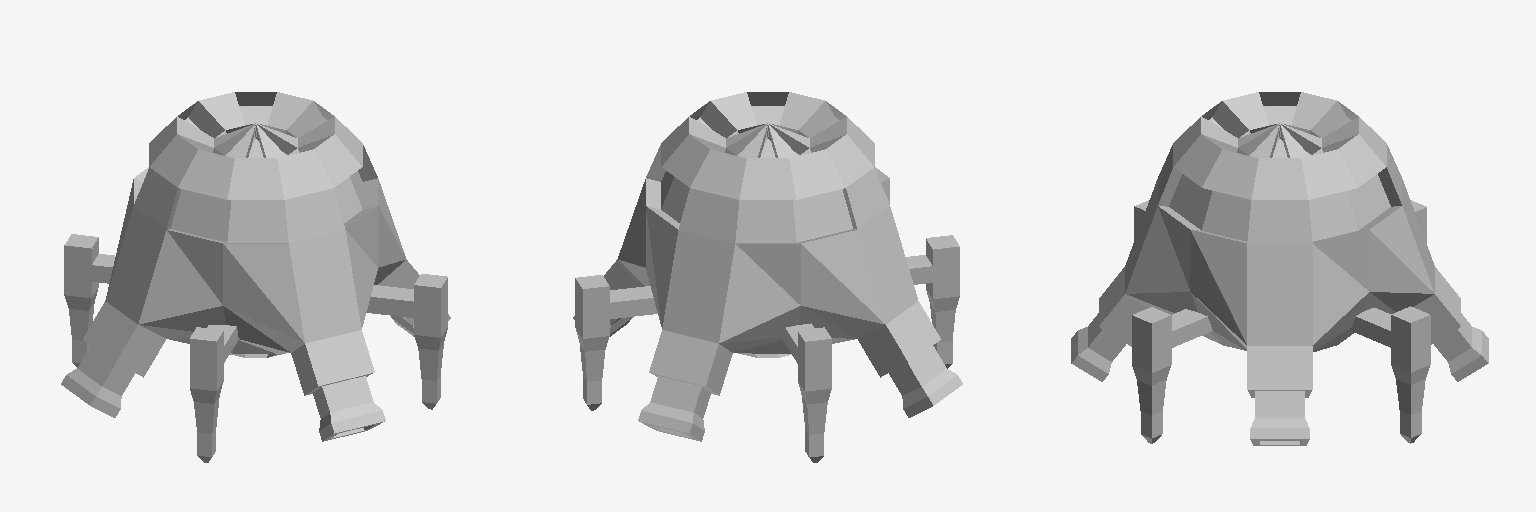
File: saturn_lander.obj
The picture shows the model from 3 angles: view 1: azimuth 30°, elevation 25°; view 2: azimuth 150°, elevation 25°; view 3: azimuth 270°, elevation 25°; orthographic projection.
Parts seen in each view (by area): view 1: Body, OneLeg, FourLeg, ThirdLeg; view 2: Body, TwoLeg, ThirdLeg, FourLeg; view 3: Body, TwoLeg, OneLeg.
Boxes of the visible parts, box(x1,y1,x2,y2) form: Body: box(61, 92, 450, 441); OneLeg: box(366, 274, 447, 409); FourLeg: box(190, 325, 238, 462); ThirdLeg: box(64, 234, 115, 367); Body: box(573, 92, 962, 441); TwoLeg: box(575, 275, 657, 410); ThirdLeg: box(783, 323, 831, 462); FourLeg: box(906, 235, 959, 368); Body: box(1071, 92, 1488, 445); TwoLeg: box(1349, 306, 1430, 443); OneLeg: box(1132, 307, 1212, 443).
Bounding box in the file's own units: 11.66 × 8.19 × 11.66.